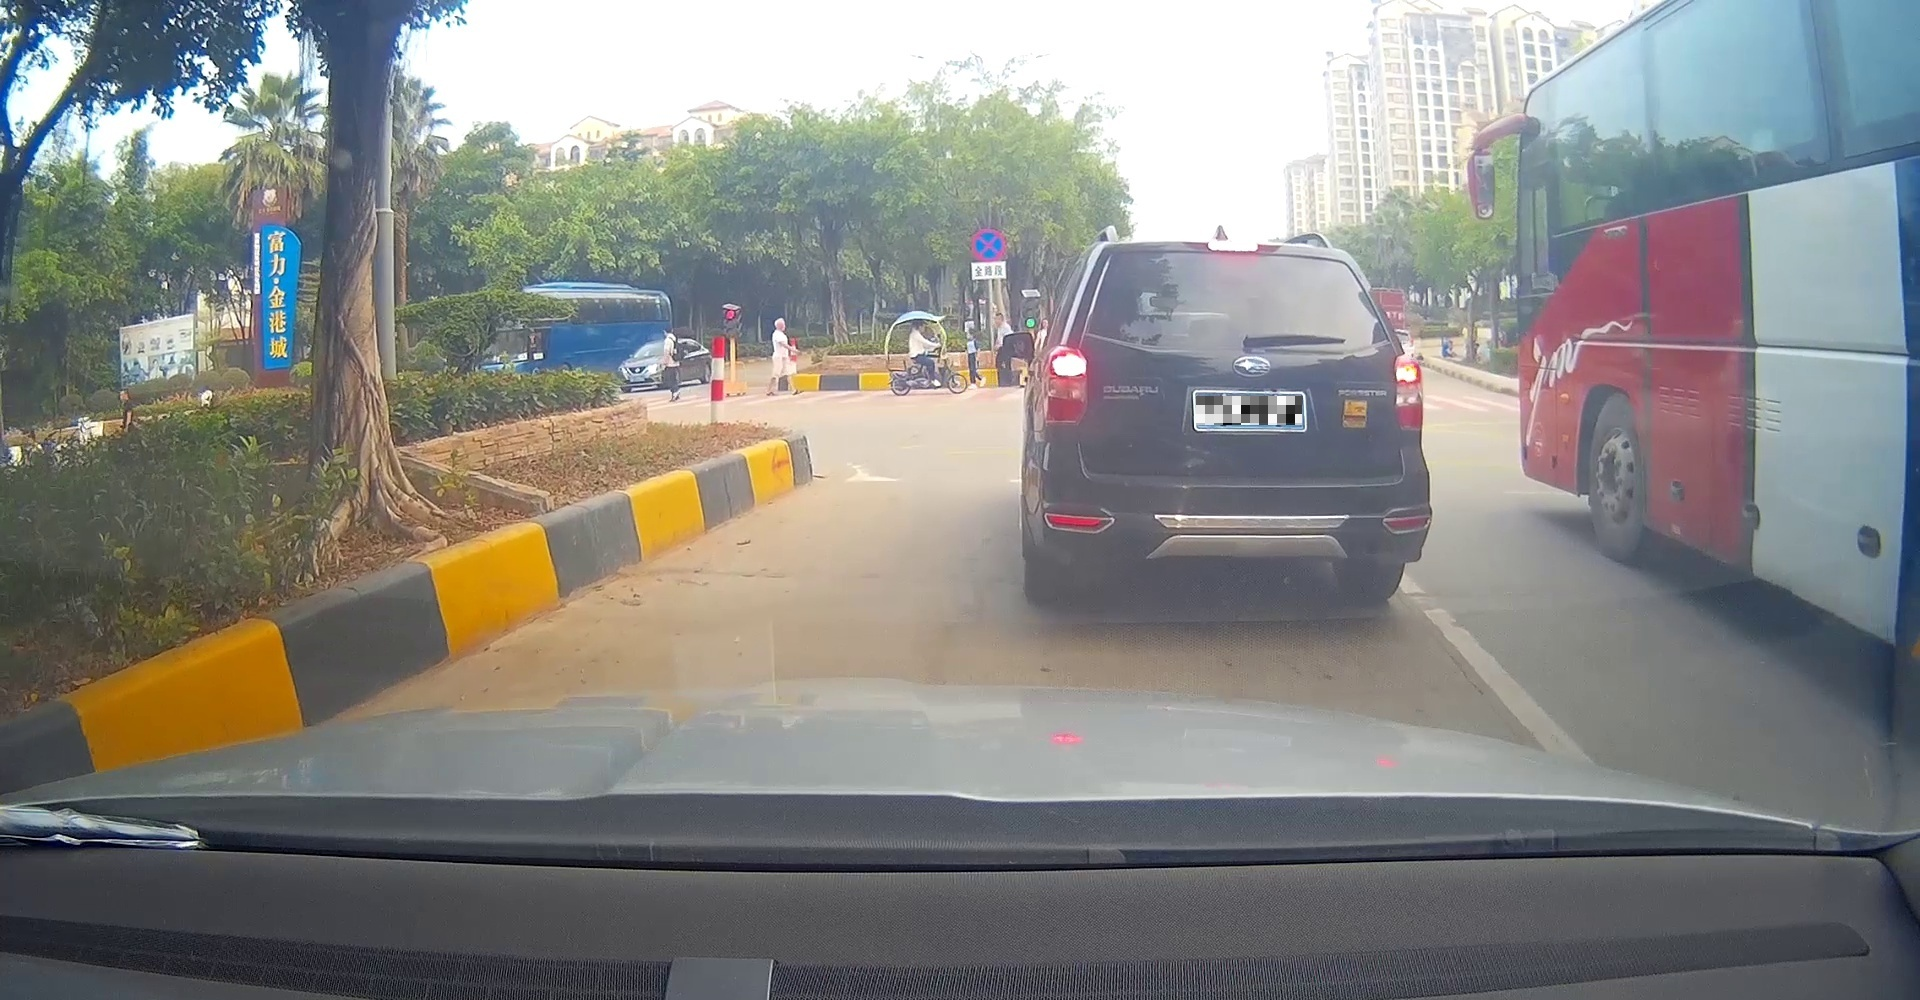L_light: (1040, 345, 1090, 423)
R_light: (1393, 354, 1423, 429)
T_light: (1208, 242, 1258, 251)
day-brake: (1035, 234, 1429, 605)
plate_1: (1196, 396, 1302, 425)
